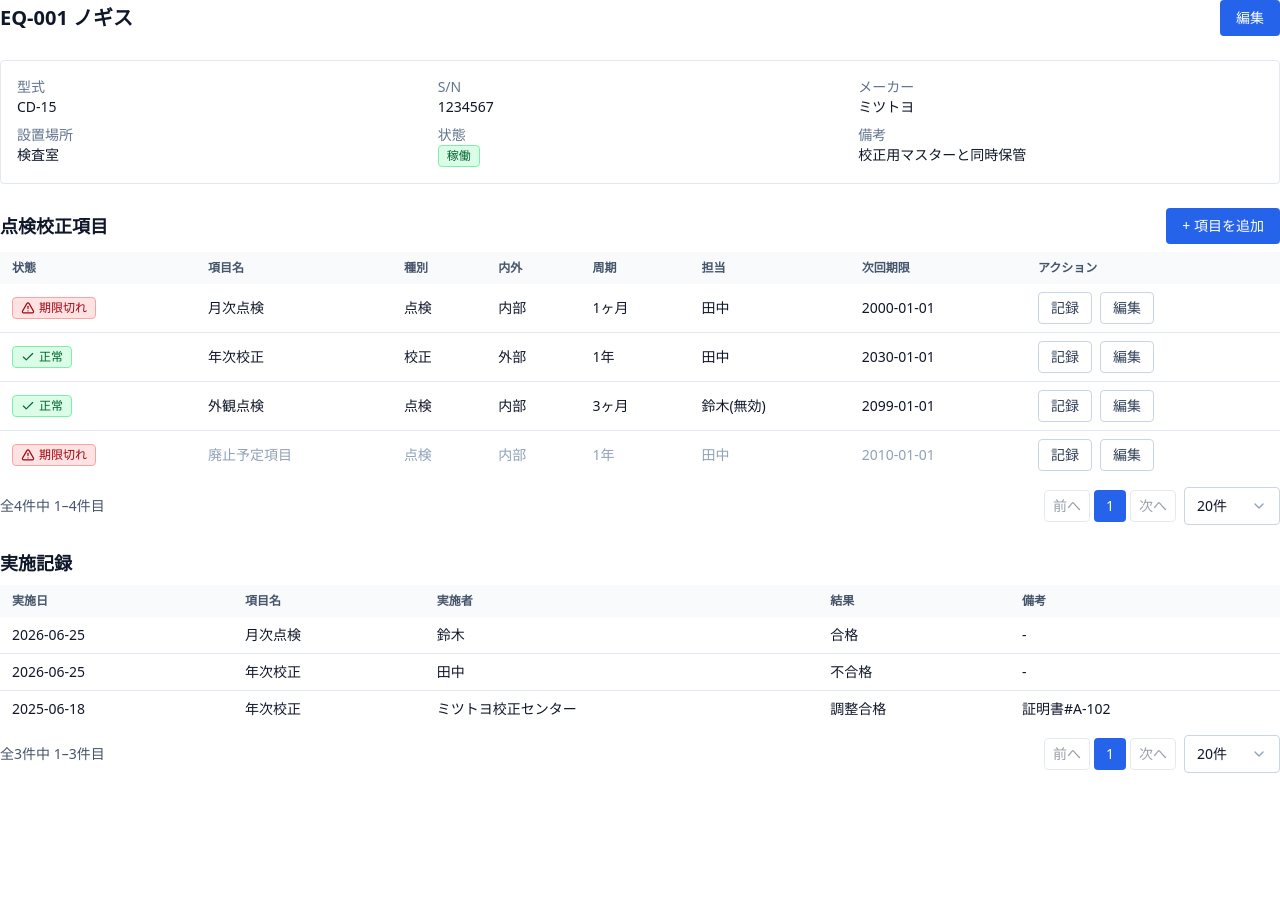
Test: EquipmentDetail: ServiceItemModal起動 › 行の「編集」で編集モードのモーダルが開き、既存値がプリフィルされる
Click the button "編集" in the row of "外部" at point(1127, 357), box top-left (1100, 341), bottom-right (1154, 373)
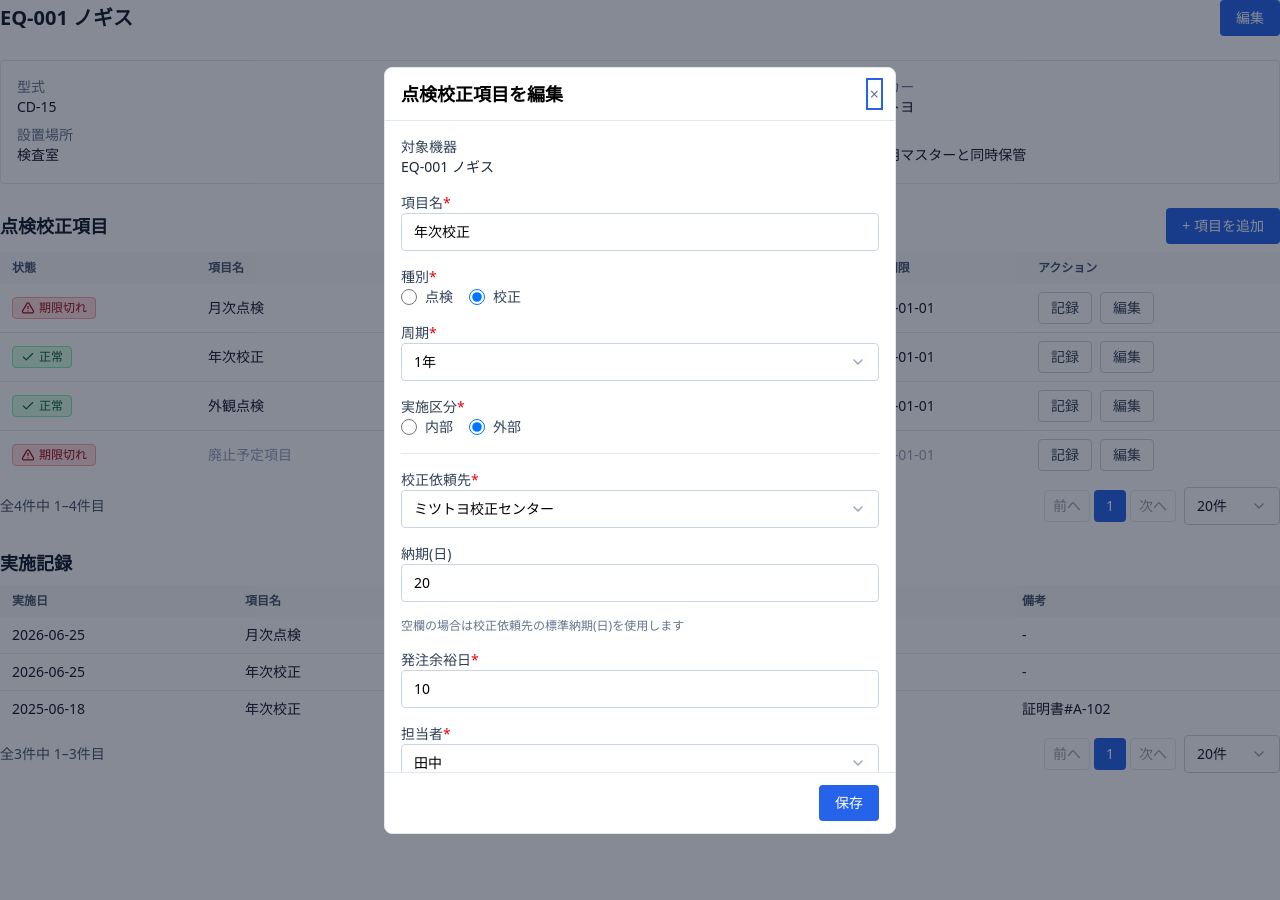
Expected: the field labelled "項目名" holds "年次校正", top-left (401, 212), bottom-right (879, 250)
Expected: the radio button labelled "外部" is checked, top-left (469, 418), bottom-right (485, 434)
